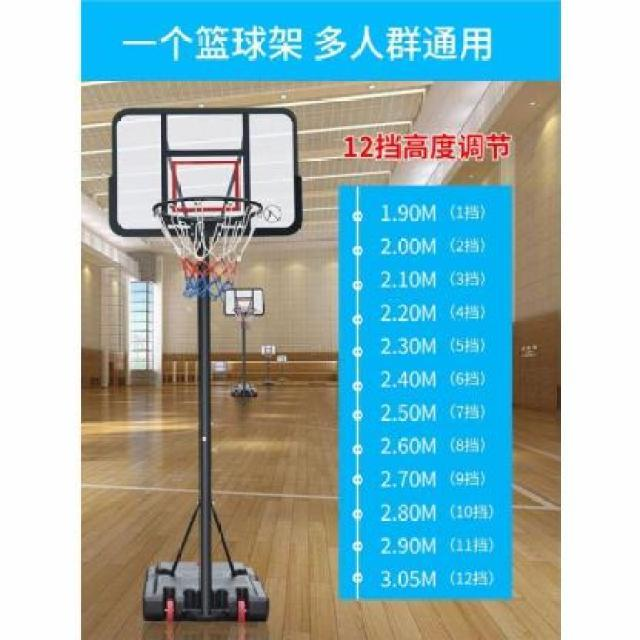rim: (152, 196, 264, 296)
